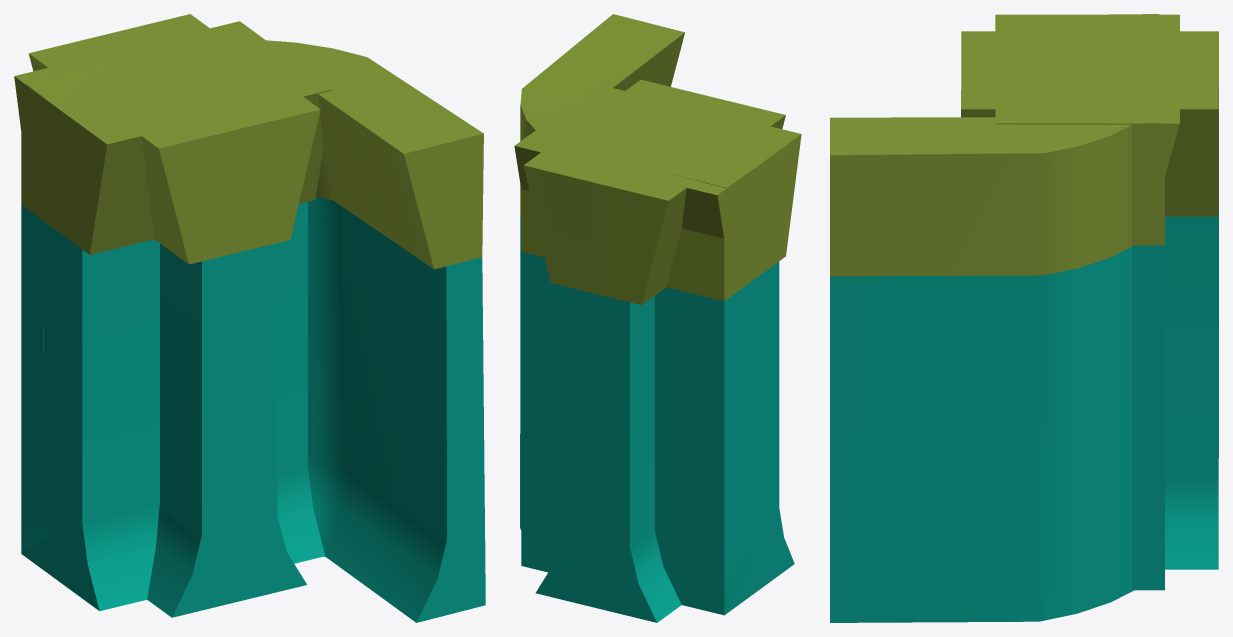
Rendered from Walls_V2.fbx.
3 renders of one model, left to right at view 1: azimuth 30°, elevation 25°; view 2: azimuth 150°, elevation 25°; view 3: azimuth 270°, elevation 25°, orthographic. The views are drawn at different scales.
Parts seen in each view (by area): view 1: Wall_Outer_Corner_1x2, Wall_Inner_Straight_1x6, Wall_Inner_Straight_1x2, Wall_Outer_Straight_1x2, Wall_Inner_Straight_1x5; view 2: Wall_Inner_Straight_1x6, Wall_Outer_Straight_1x2, Wall_Inner_Straight_1x2, Wall_Outer_Corner_1x2, Wall_Inner_Straight_1x5; view 3: Wall_Outer_Corner_1x2, Wall_Inner_Straight_1x6, Wall_Outer_Straight_1x2, Wall_Inner_Straight_1x2, Wall_Inner_Straight_1x5.
Part boxes in pixels (<box>): Wall_Outer_Corner_1x2: <box>21,40,485,622</box>; Wall_Inner_Straight_1x6: <box>28,14,320,617</box>; Wall_Inner_Straight_1x2: <box>14,21,332,610</box>; Wall_Outer_Straight_1x2: <box>21,27,293,581</box>; Wall_Inner_Straight_1x5: <box>14,22,331,610</box>; Wall_Inner_Straight_1x6: <box>523,79,785,622</box>; Wall_Outer_Straight_1x2: <box>521,110,766,615</box>; Wall_Inner_Straight_1x2: <box>514,84,801,584</box>; Wall_Outer_Corner_1x2: <box>520,14,756,614</box>; Wall_Inner_Straight_1x5: <box>518,85,801,590</box>; Wall_Outer_Corner_1x2: <box>830,14,1159,622</box>; Wall_Inner_Straight_1x6: <box>961,31,1218,569</box>; Wall_Outer_Straight_1x2: <box>1072,14,1164,589</box>; Wall_Inner_Straight_1x2: <box>995,14,1179,590</box>; Wall_Inner_Straight_1x5: <box>995,14,1163,590</box>.
Bounding box in the file's own units: 133 × 201 × 151.
